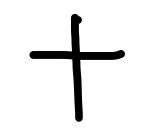plus: (29, 13, 124, 122)
